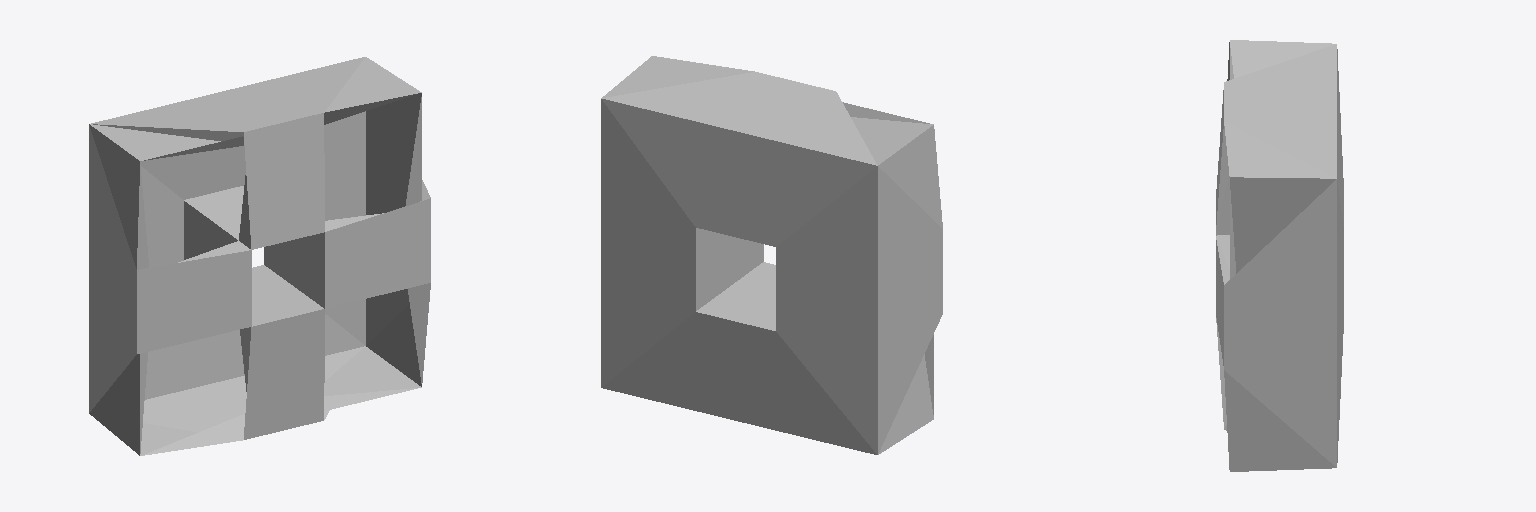
Rendered from cutcubetest.obj.
3 renders of one model, left to right at view 1: azimuth 30°, elevation 25°; view 2: azimuth 150°, elevation 25°; view 3: azimuth 270°, elevation 25°, orthographic.
Size of the model in its own units: 1.68 by 1.68 by 0.637.